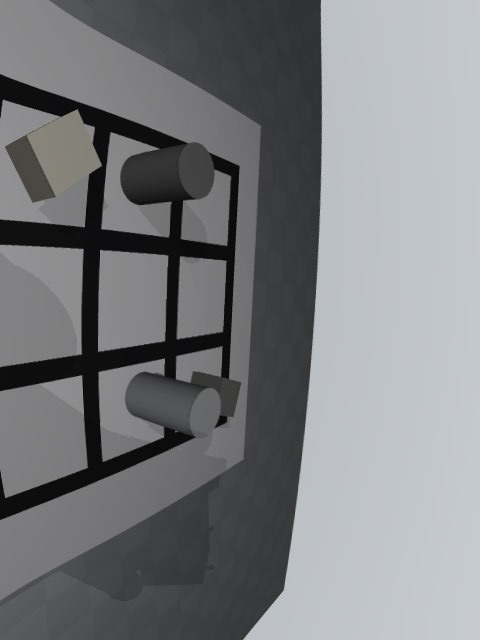can: (125, 372, 221, 439)
cube: (191, 371, 241, 417)
cylinder: (120, 142, 214, 205)
foam: (5, 109, 102, 203)
